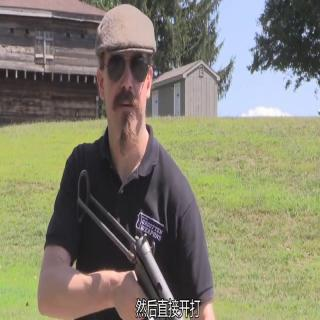gun: (65, 162, 225, 320)
